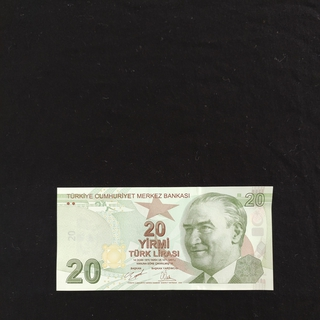20TLFront: (56, 186, 273, 291)
